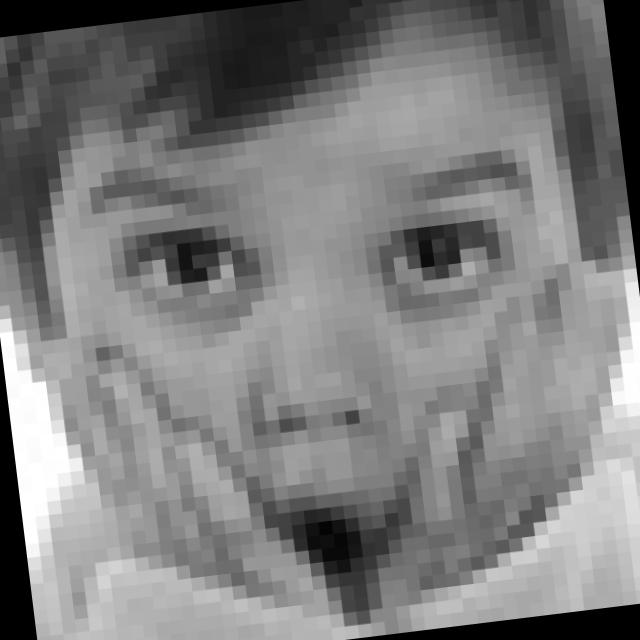surprise: (70, 112, 581, 607)
